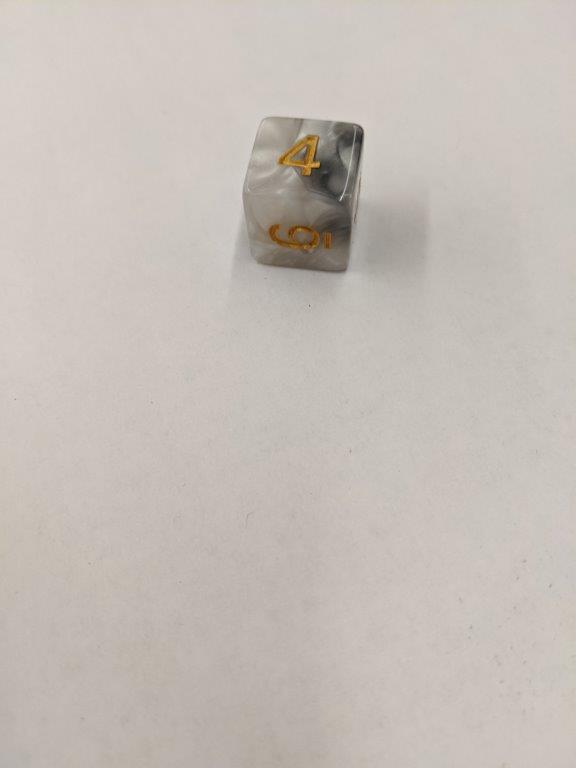d6-4: (239, 114, 365, 276)
